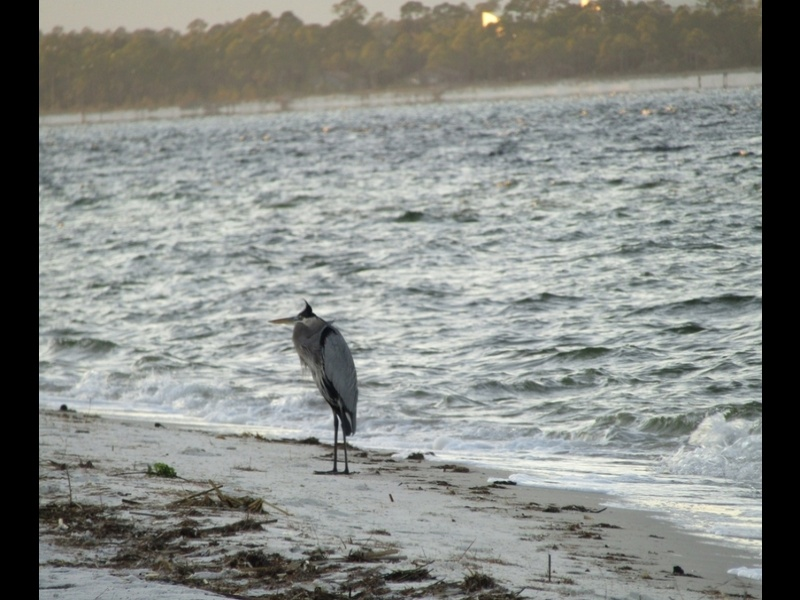heron: (274, 297, 362, 474)
